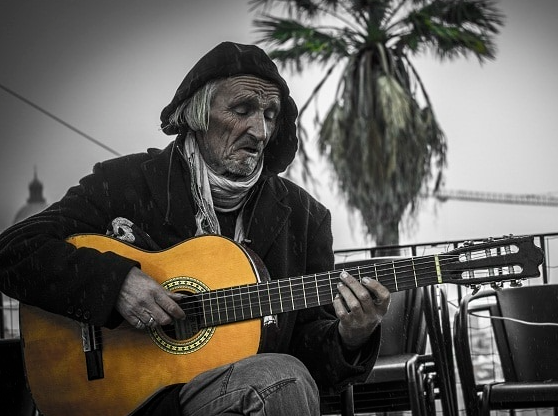fretboard: (199, 254, 438, 329)
